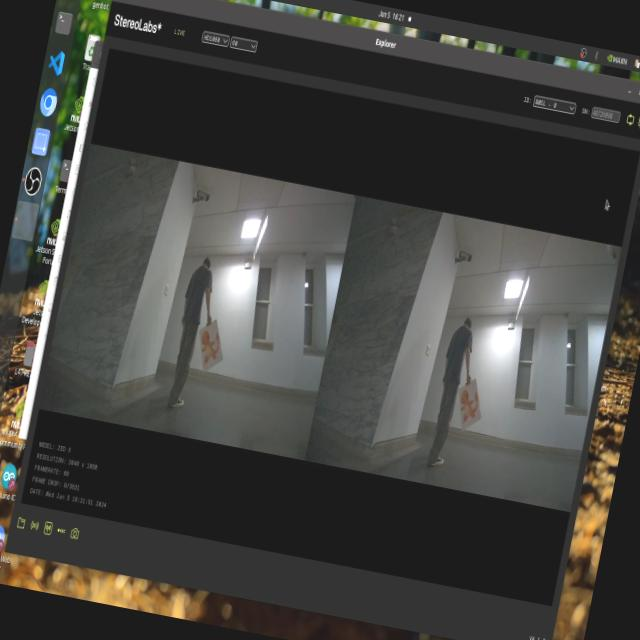red: (440, 380, 487, 426), (190, 332, 222, 378)
